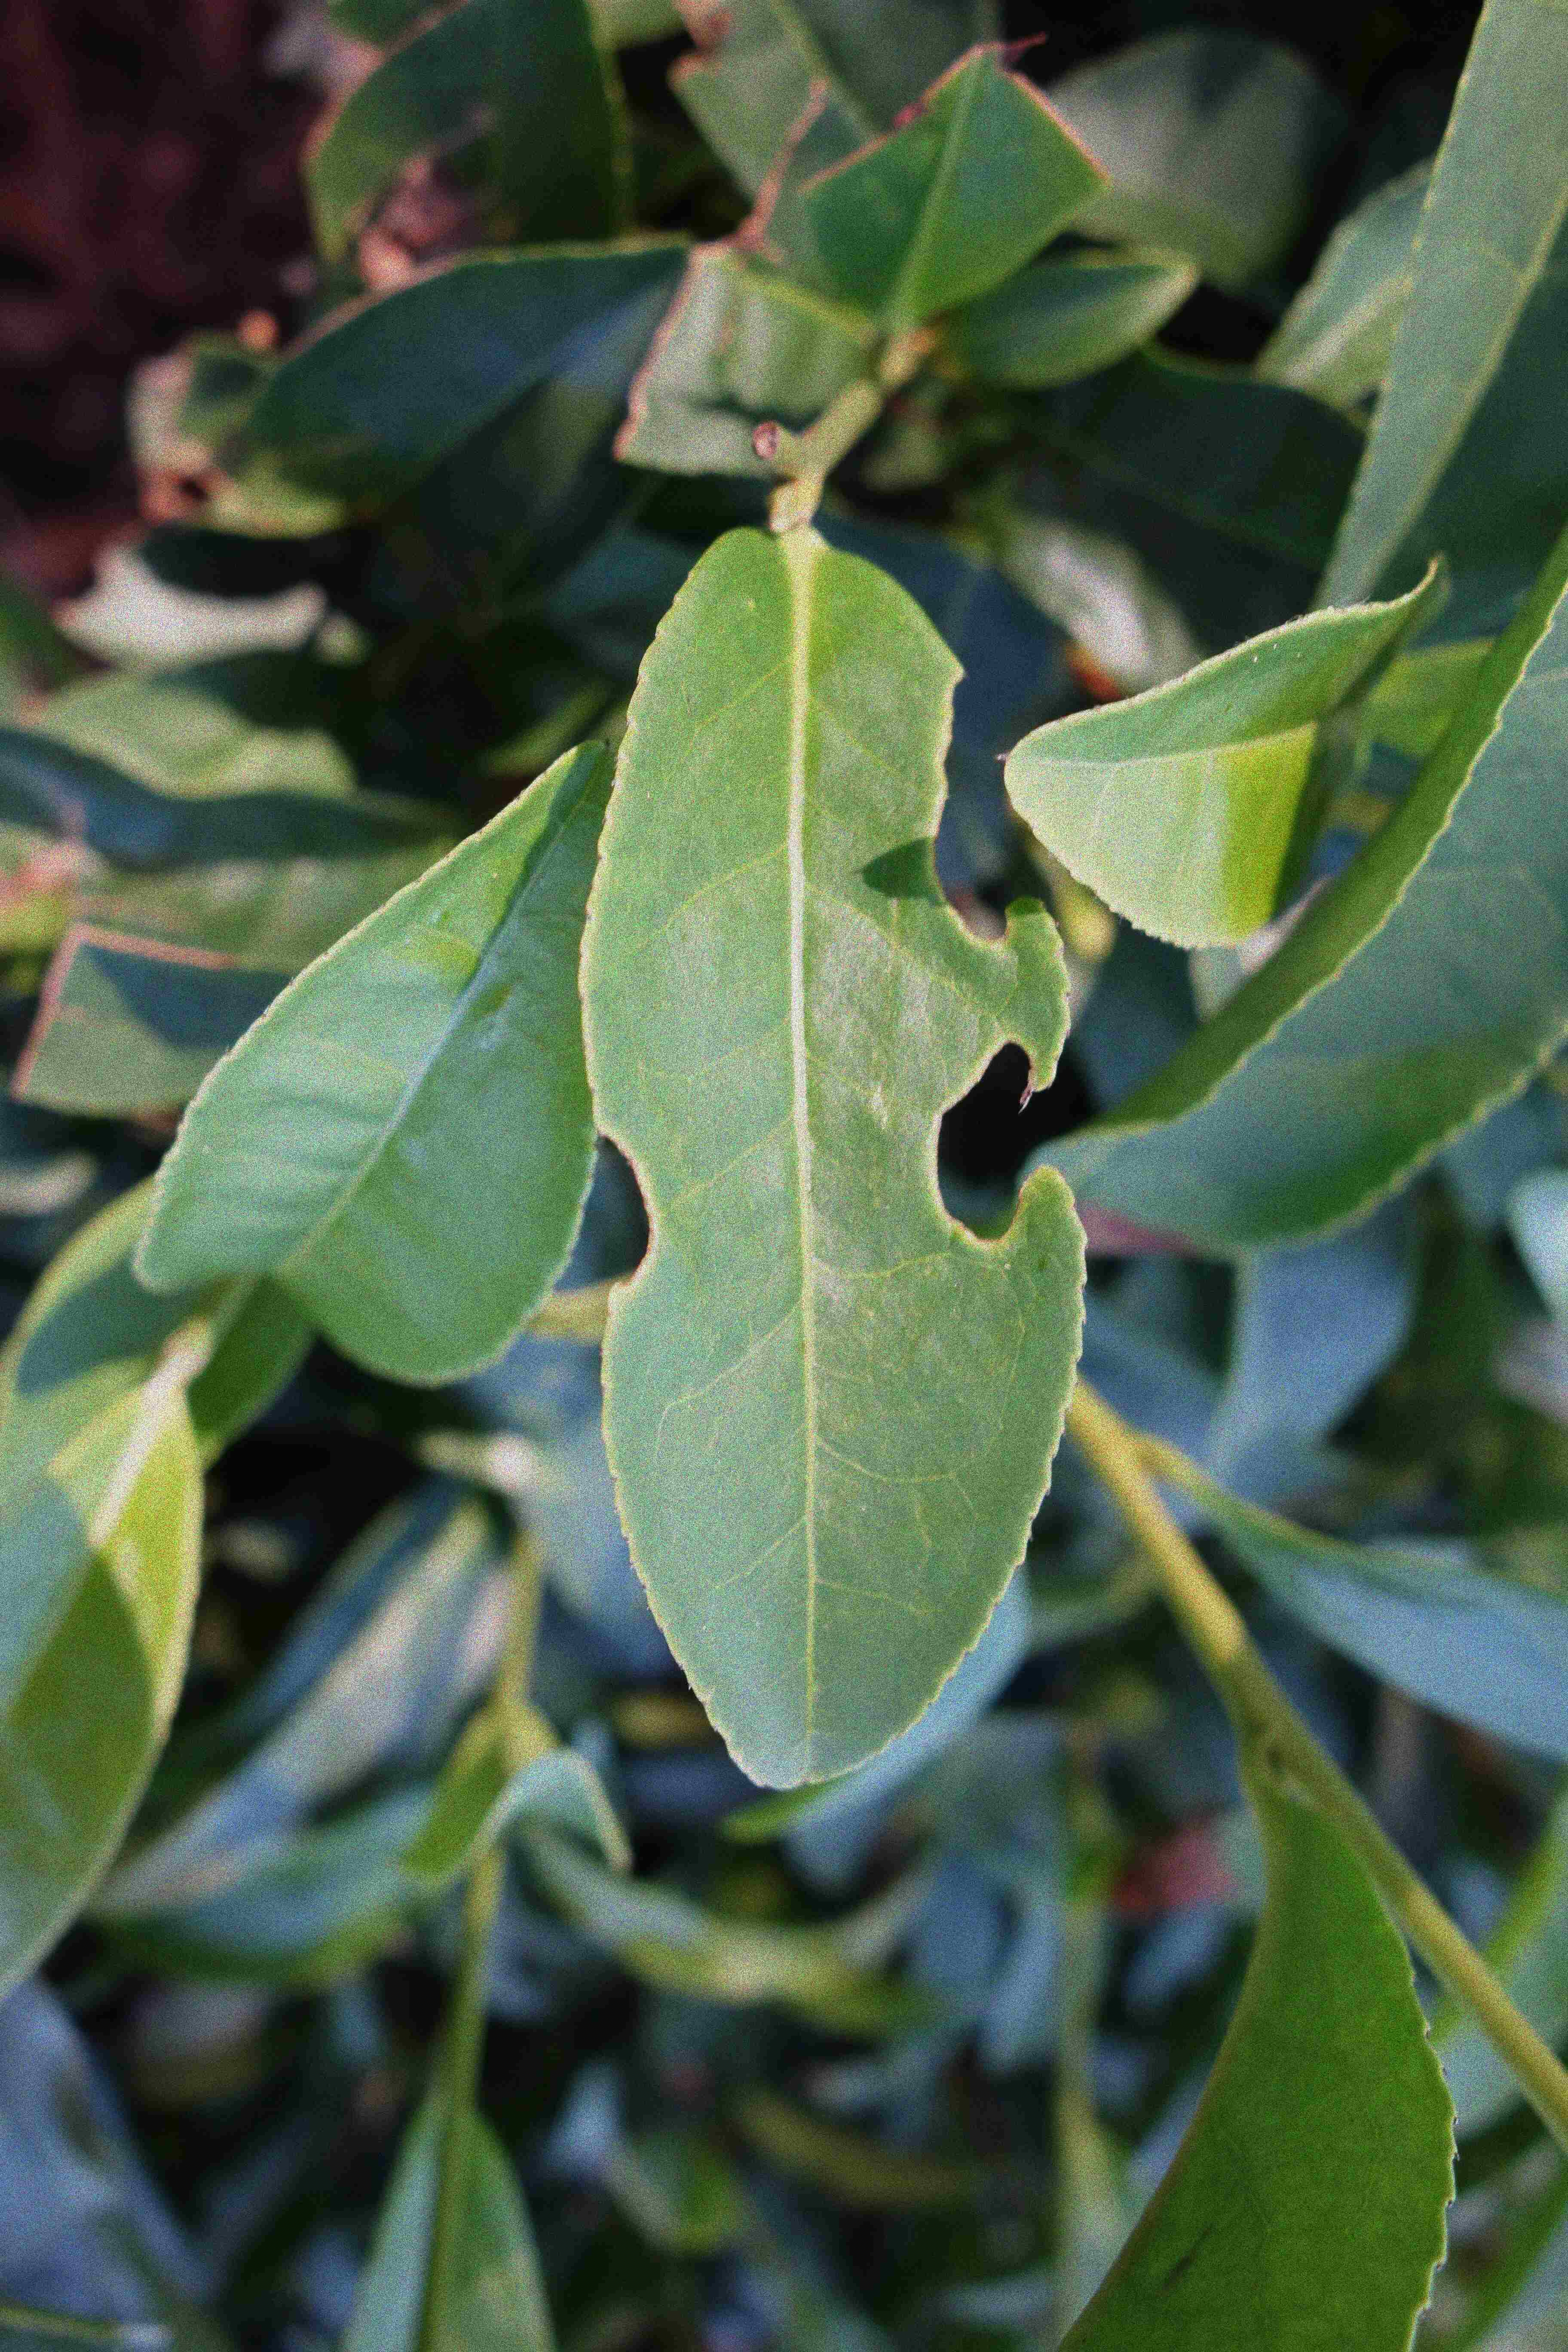chihuo_high: (574, 506, 1092, 1795)
healthy: (136, 737, 614, 1381), (1006, 560, 1454, 955), (5, 1375, 233, 2007)
